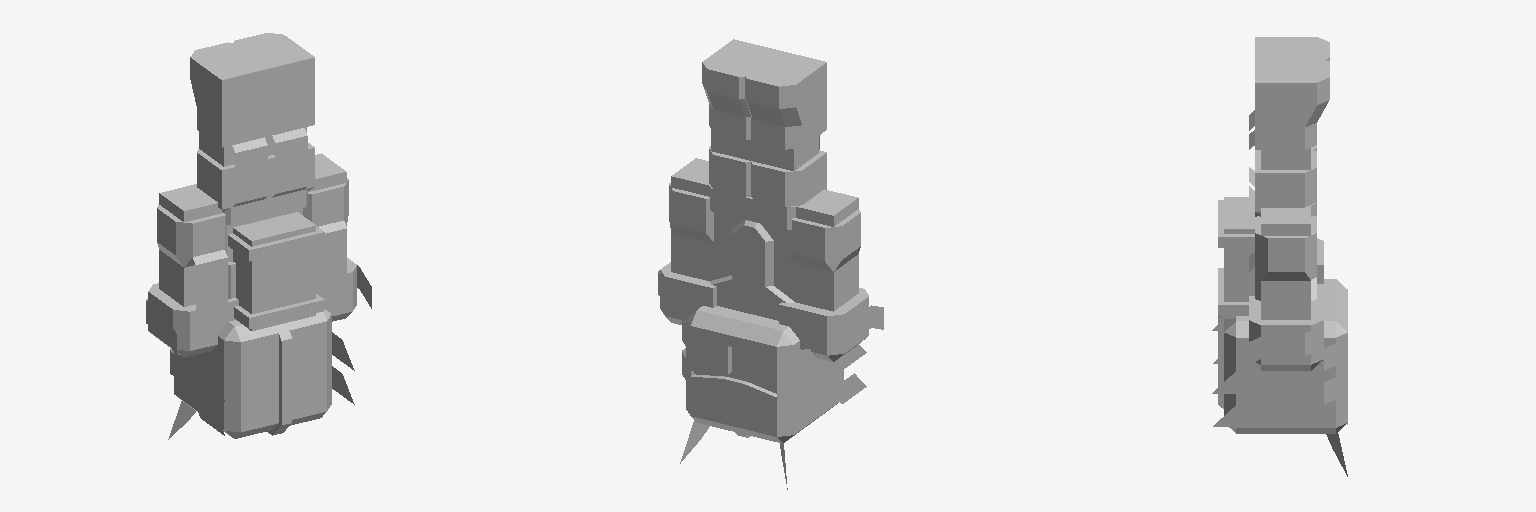
The model's file is dnt.obj.
3 renders of one model, left to right at view 1: azimuth 30°, elevation 25°; view 2: azimuth 150°, elevation 25°; view 3: azimuth 270°, elevation 25°, orthographic.
Parts seen in each view (by area): view 1: Helmet, RightArm, Chest, RightBoot, LeftArm, LeftBoot, RightLeg, LeftLeg; view 2: Helmet, RightArm, Chest, LeftArm, RightBoot, LeftBoot, RightLeg, LeftLeg; view 3: Helmet, LeftArm, LeftBoot, Chest, LeftLeg, RightBoot.
Boxes of the visible parts, x1=… form: Helmet: x1=168, y1=309, x2=354, y2=439; RightArm: x1=146, y1=184, x2=238, y2=357; Chest: x1=195, y1=185, x2=324, y2=330; RightBoot: x1=190, y1=42, x2=274, y2=147; LeftArm: x1=303, y1=153, x2=371, y2=321; LeftBoot: x1=230, y1=33, x2=314, y2=137; RightLeg: x1=197, y1=132, x2=274, y2=211; LeftLeg: x1=267, y1=127, x2=314, y2=197; Helmet: x1=680, y1=306, x2=866, y2=489; RightArm: x1=779, y1=189, x2=883, y2=361; Chest: x1=707, y1=181, x2=804, y2=320; LeftArm: x1=658, y1=158, x2=716, y2=324; RightBoot: x1=743, y1=49, x2=826, y2=149; LeftBoot: x1=702, y1=39, x2=786, y2=139; RightLeg: x1=751, y1=135, x2=826, y2=211; LeftLeg: x1=709, y1=129, x2=752, y2=196; Helmet: x1=1212, y1=279, x2=1347, y2=476; LeftArm: x1=1243, y1=206, x2=1323, y2=370; LeftBoot: x1=1255, y1=56, x2=1329, y2=149; Chest: x1=1218, y1=197, x2=1316, y2=318; LeftLeg: x1=1249, y1=130, x2=1316, y2=214; RightBoot: x1=1255, y1=37, x2=1329, y2=60.
Bounding box in the file's own units: 19.58 × 37.7 × 11.91.